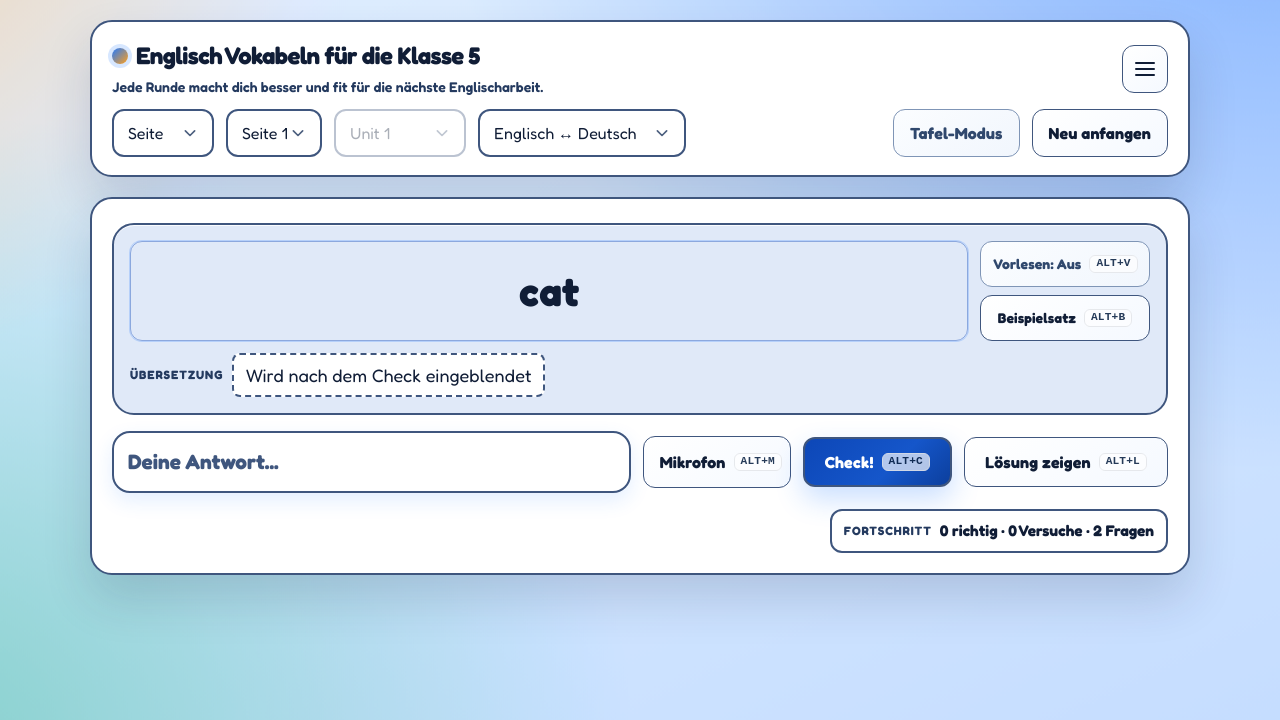
Test case: App › shows total question count based on regular direction
The width and height of the screenshot is (1280, 720).
Expected: the text "0 richtig · 0 Versuche · 2 Fragen" is shown, [940,521,1154,541]
Select "Deutsch → Englisch" in the dropdown named "Richtung": (582, 133) [478,109,686,157]
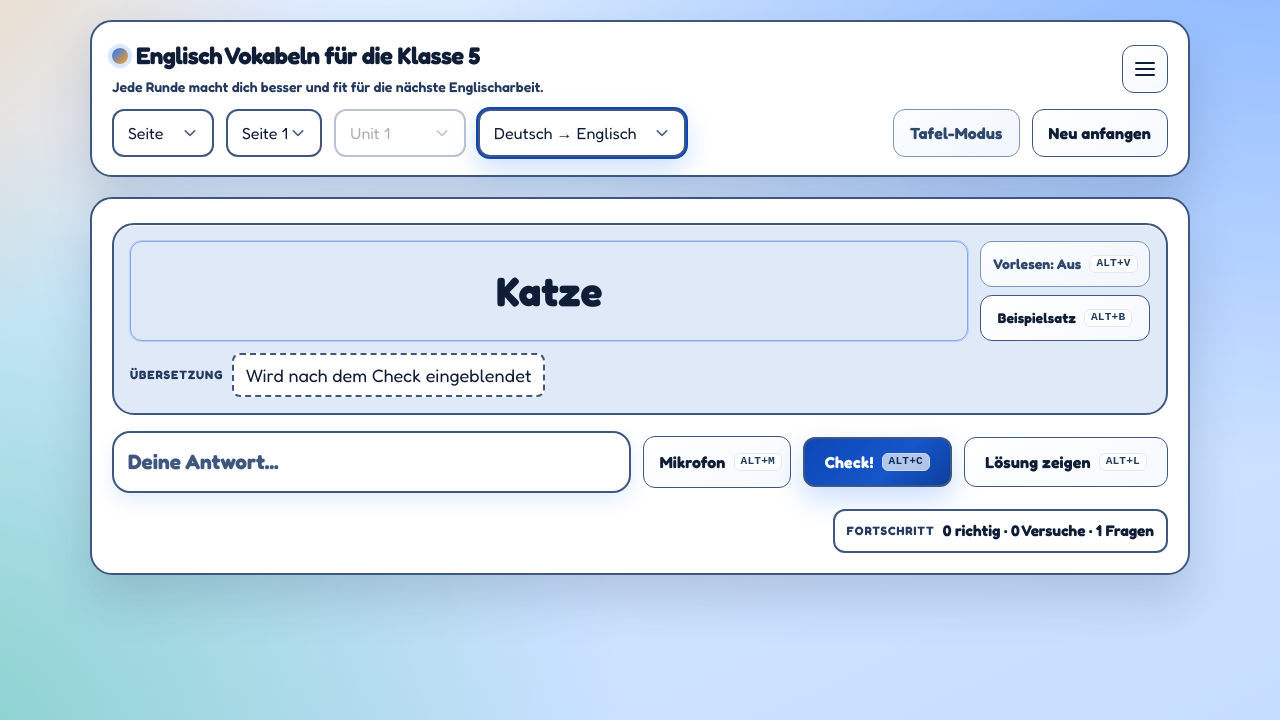
Now the text "0 richtig · 0 Versuche · 1 Fragen" is shown, box [943,521,1154,541]
Select "Englisch → Deutsch" in the dropdown named "Richtung": (582, 133) [478,109,686,157]
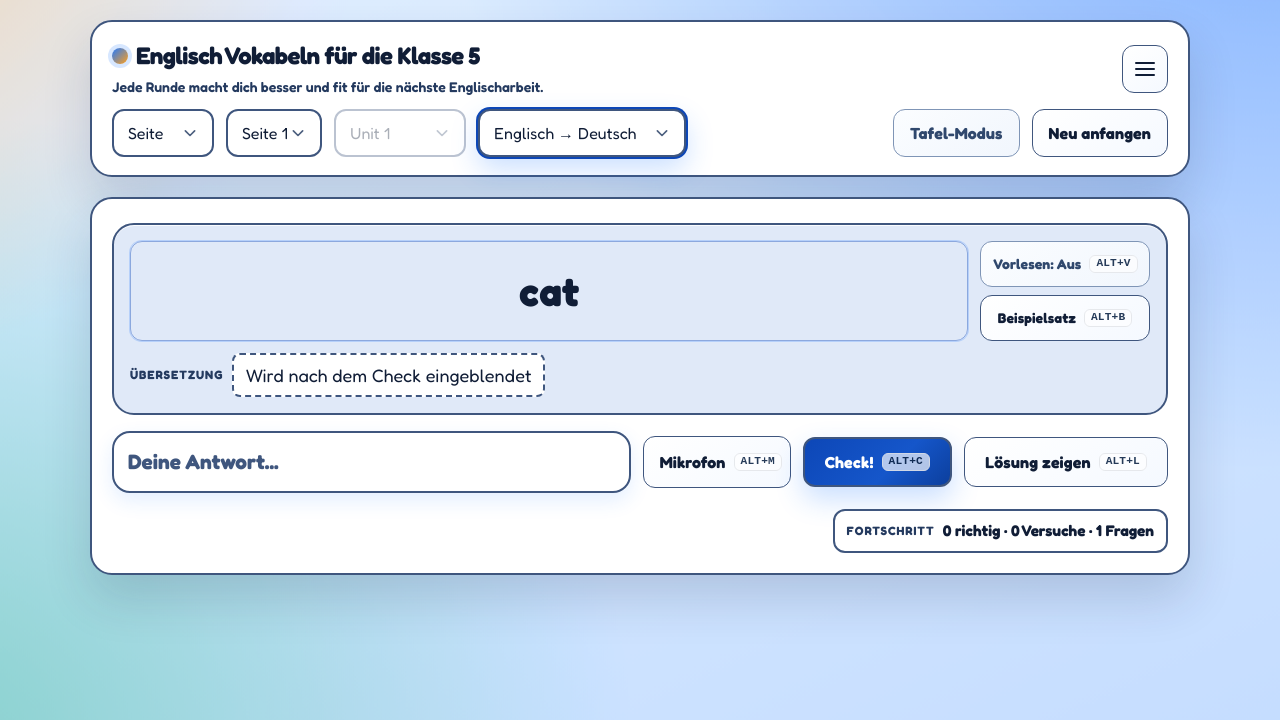
Now the text "0 richtig · 0 Versuche · 1 Fragen" is shown, box [943,521,1154,541]
Select "Englisch ↔ Deutsch" in the dropdown named "Richtung": (582, 133) [478,109,686,157]
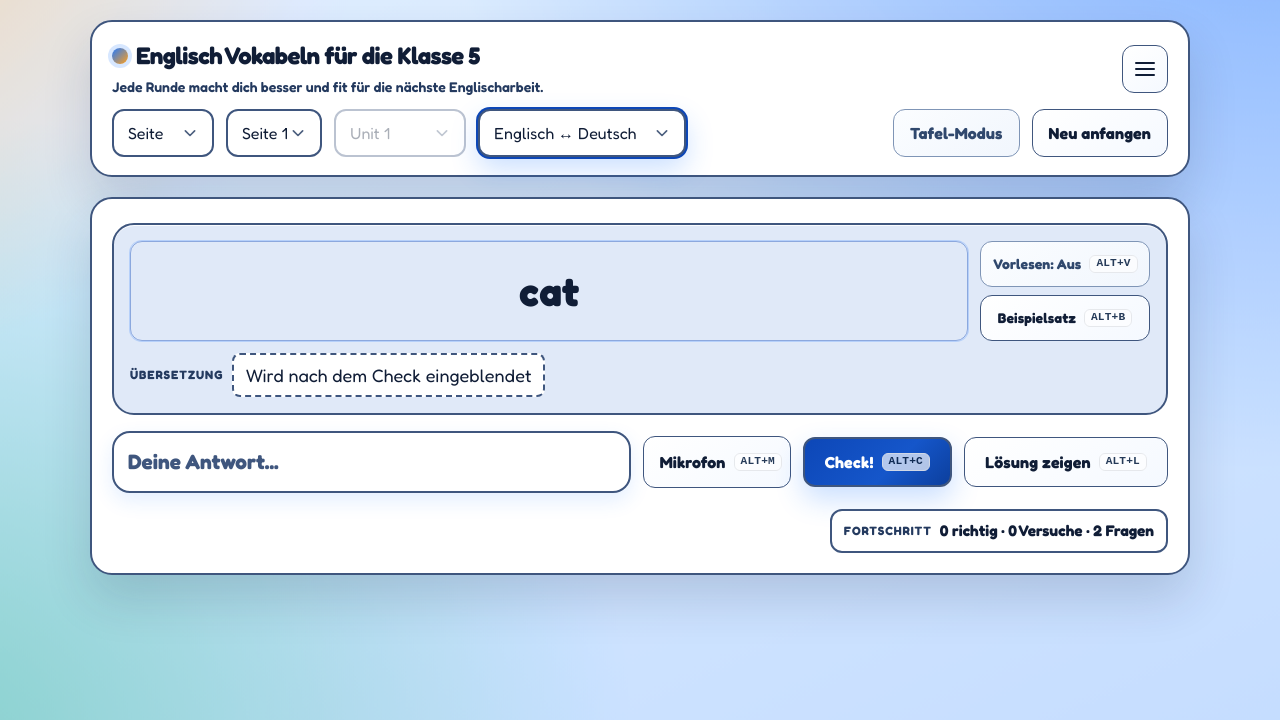
Now the text "0 richtig · 0 Versuche · 2 Fragen" is shown, box [940,521,1154,541]
